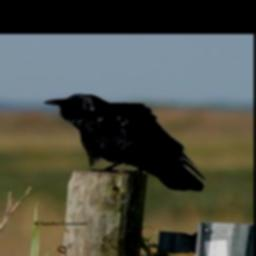Crow: (42, 93, 207, 193)
